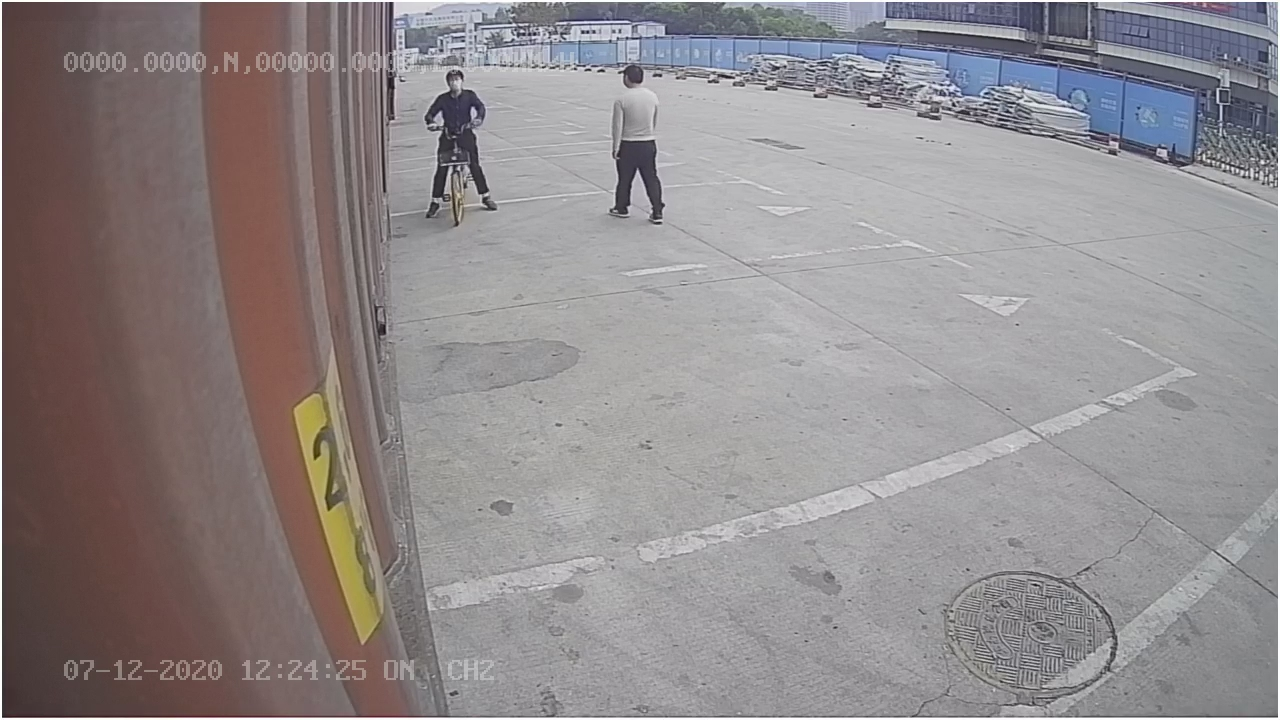person: (603, 62, 672, 226)
